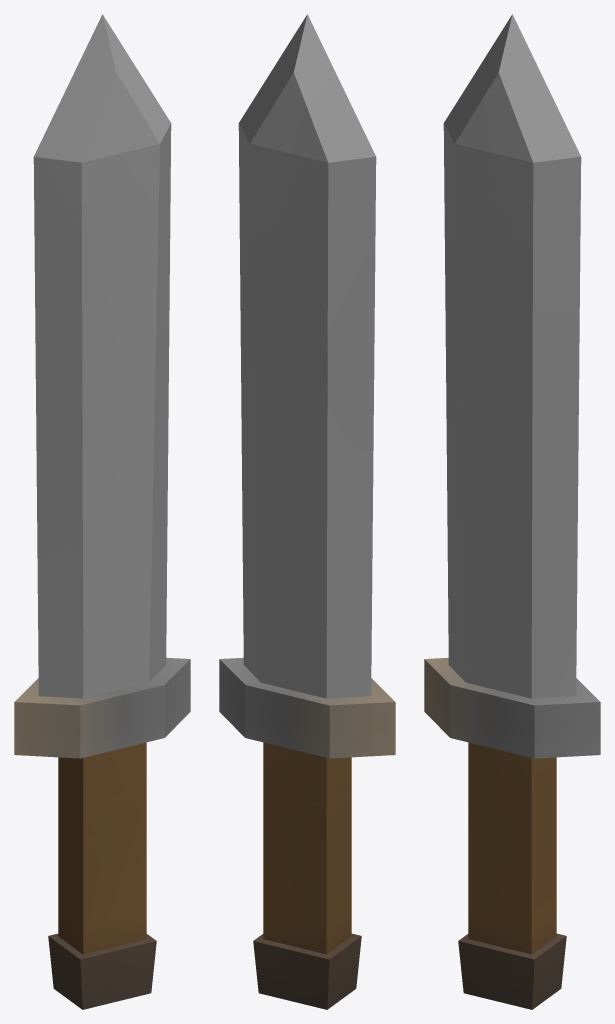
The model's file is Stone_Sword.fbx.
The picture shows the model from 3 angles, left to right: view 1: azimuth 30°, elevation 25°; view 2: azimuth 150°, elevation 25°; view 3: azimuth 330°, elevation 25°; orthographic projection.
Parts seen in each view (by area): view 1: Stone_Sword; view 2: Stone_Sword; view 3: Stone_Sword.
Part boxes in pixels (bbox=[...]): Stone_Sword: bbox=[14, 14, 190, 1009]; Stone_Sword: bbox=[219, 14, 395, 1009]; Stone_Sword: bbox=[424, 14, 600, 1009].
Bounding box in the file's own units: 19.24 × 102 × 7.6.
1 material, 1 textured.
